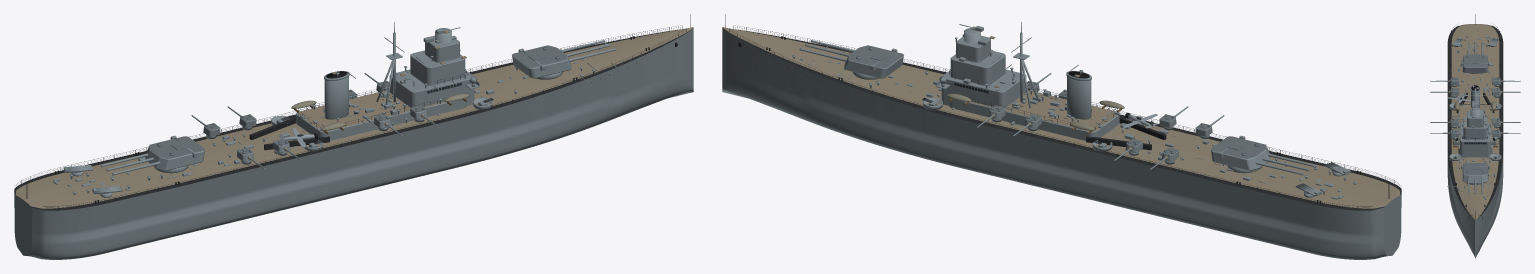
File: deutschland.glb
3 views of the same model, side by side, from view 1: azimuth 30°, elevation 25°; view 2: azimuth 150°, elevation 25°; view 3: azimuth 270°, elevation 25° (orthographic). The views are drawn at different scales.
Visible parts, largest first — view 1: deutschland, T_1_malla, T_0_malla, C_1, C_0; view 2: deutschland, T_1_malla, T_0_malla, C_1, C_0; view 3: deutschland, T_0_malla, T_1_malla, C_0, C_1, T_2_malla, T_3_malla, T_5_malla, T_6_malla, T_7_malla, T_8_malla, T_9_malla (+1 smaller).
Part boxes in pixels (x1,y1,x2,y2): deutschland: [14, 14, 693, 259]; T_1_malla: [145, 135, 204, 170]; T_0_malla: [512, 45, 571, 78]; C_1: [100, 153, 160, 175]; C_0: [561, 40, 616, 61]; deutschland: [722, 14, 1401, 259]; T_1_malla: [1211, 135, 1270, 170]; T_0_malla: [844, 45, 903, 78]; C_1: [1255, 153, 1315, 175]; C_0: [799, 40, 854, 61]; deutschland: [1447, 14, 1503, 259]; T_0_malla: [1461, 163, 1489, 183]; T_1_malla: [1461, 54, 1489, 72]; C_0: [1467, 178, 1483, 193]; C_1: [1467, 42, 1483, 54]; T_2_malla: [1450, 129, 1459, 136]; T_3_malla: [1491, 129, 1500, 136]; T_5_malla: [1491, 118, 1500, 125]; T_6_malla: [1450, 88, 1459, 95]; T_7_malla: [1491, 88, 1500, 95]; T_8_malla: [1450, 77, 1459, 84]; T_9_malla: [1491, 77, 1500, 84].
Bounding box in the file's own units: 186 × 38 × 35.2.
